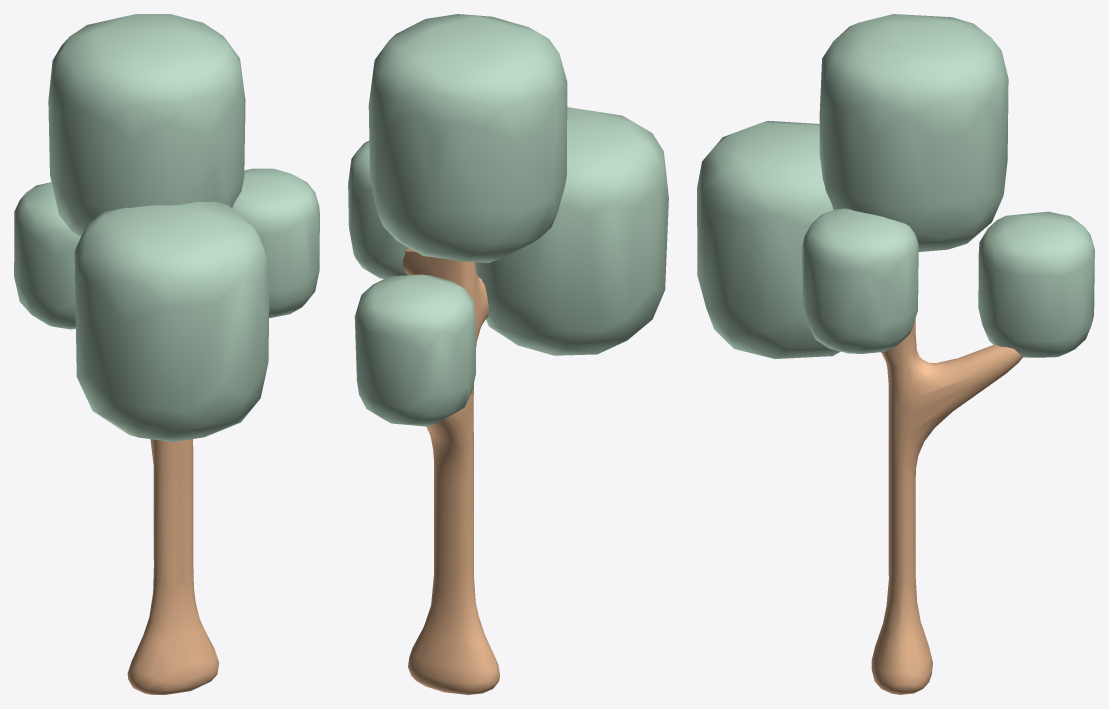
The model's file is Arbre3_big_Smooth.fbx.
3 renders of one model, left to right at view 1: azimuth 30°, elevation 25°; view 2: azimuth 150°, elevation 25°; view 3: azimuth 270°, elevation 25°, orthographic. The views are drawn at different scales.
Visible parts, largest first — view 1: Arbre3_big_Smooth; view 2: Arbre3_big_Smooth; view 3: Arbre3_big_Smooth.
Boxes of the visible parts, x1,y1,x2,y2 form: Arbre3_big_Smooth: (14,14,319,694); Arbre3_big_Smooth: (348,14,668,694); Arbre3_big_Smooth: (697,14,1094,694).
Size of the model in its own units: 3.32 by 8 by 4.51.
